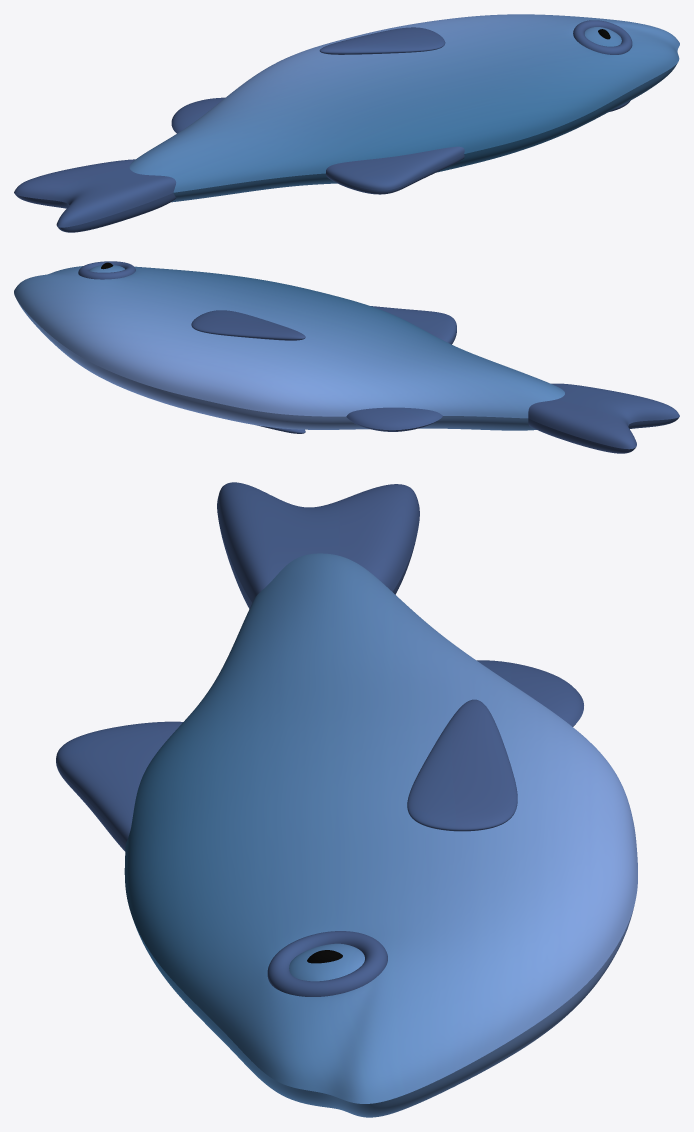
The model's file is HH_RawFih.fbx.
The picture shows the model from 3 angles, top to bottom: view 1: azimuth 30°, elevation 25°; view 2: azimuth 150°, elevation 25°; view 3: azimuth 270°, elevation 25°; orthographic projection. The views are drawn at different scales.
Parts seen in each view (by area): view 1: Top, Bottom; view 2: Top, Bottom; view 3: Top, Bottom.
Boxes of the visible parts, bbox=[...] form: Top: bbox=[14, 14, 679, 227]; Bottom: bbox=[14, 63, 677, 232]; Top: bbox=[14, 261, 679, 449]; Bottom: bbox=[17, 301, 678, 453]; Top: bbox=[56, 482, 637, 1103]; Bottom: bbox=[56, 519, 633, 1117].
Bounding box in the file's own units: 99.77 × 14.96 × 39.95.
2 materials, 1 textured.
